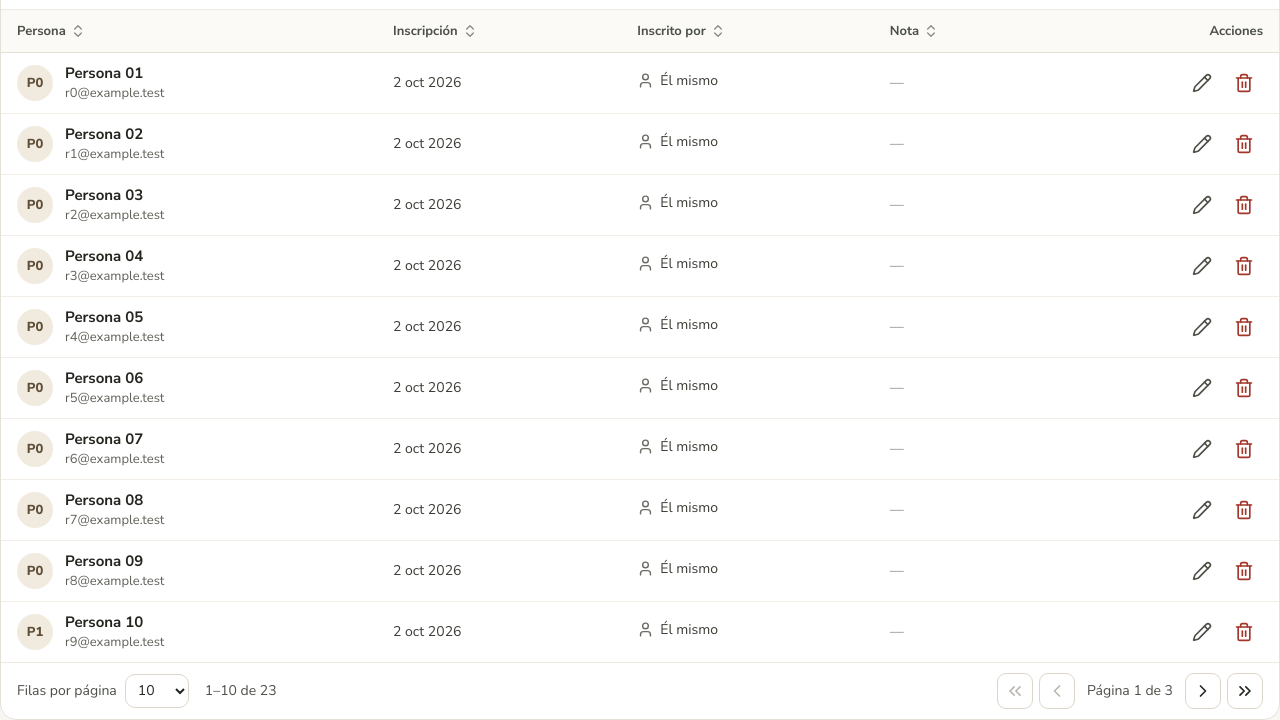
Test case: AdminRegistrationsPage · Por evento › pagina de 10 en 10 y permite cambiar las filas por página
(page scrolled)
Expected: the text "Persona 01" is shown, [65,63,143,83]
Expected: the text "1–10 de 23" is shown, [205,681,277,701]
Click the button named "Última página" at coordinates (1245, 691), box [1227,673,1263,709]
(page scrolled)
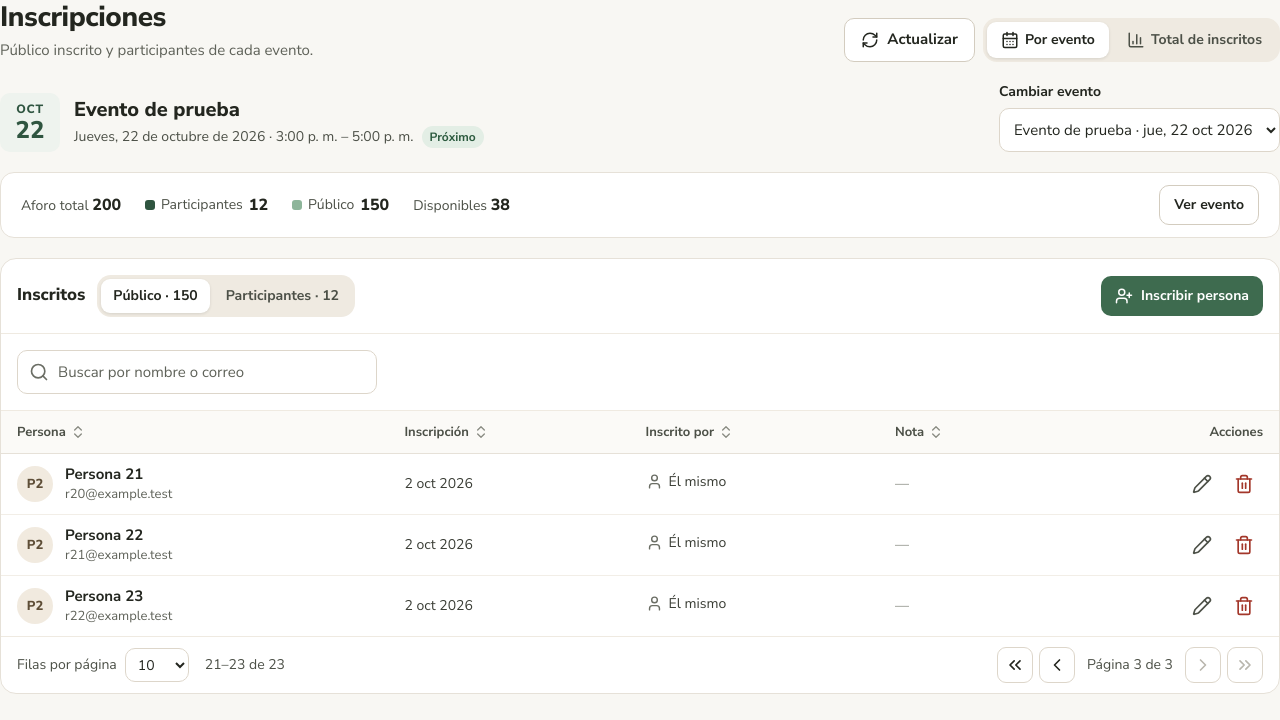
Now the text "21–23 de 23" is shown, box [205,655,285,675]
Now the button named "Página siguiente" is disabled, box [1185,647,1221,683]
Cambiar el tamaño vuelve a la página 1.
Select "25" in the dropdown labelled "Filas por página" at coordinates (157, 665), box [125,648,189,682]
(page scrolled)
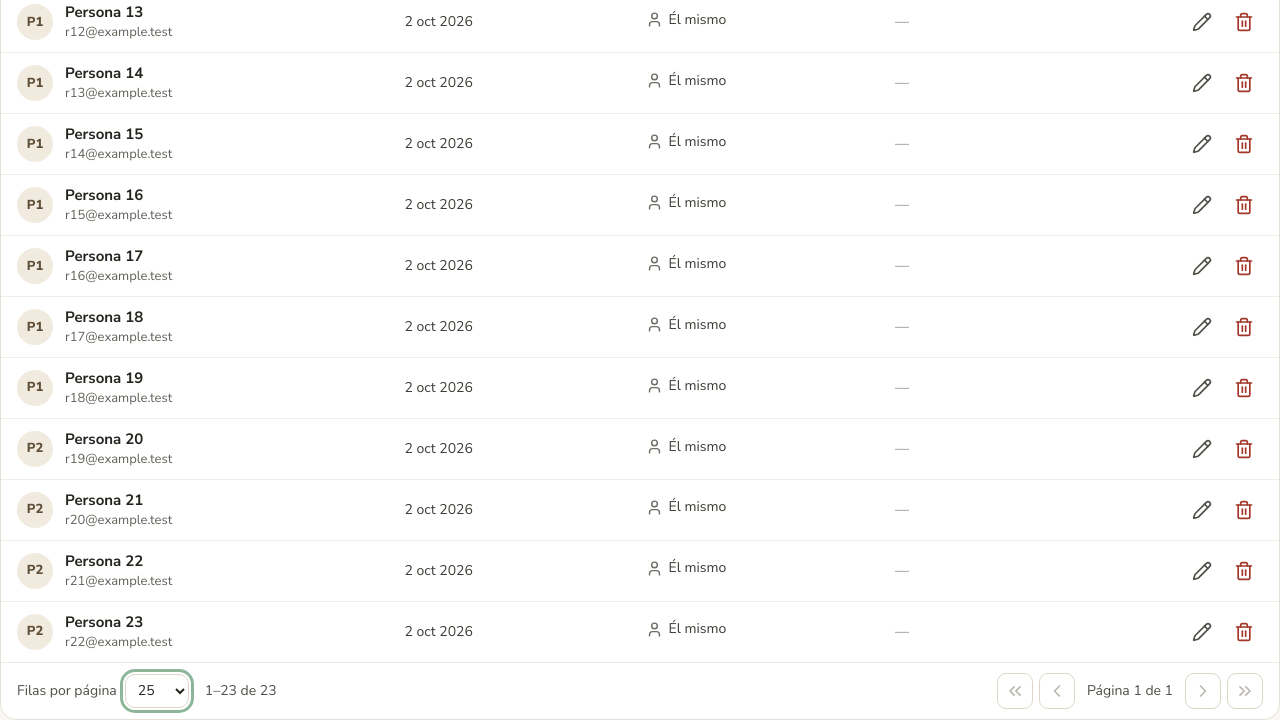
Now the text "1–23 de 23" is shown, box [205,681,277,701]
Now the text "Página 1 de 1" is shown, box [1081,681,1179,701]
